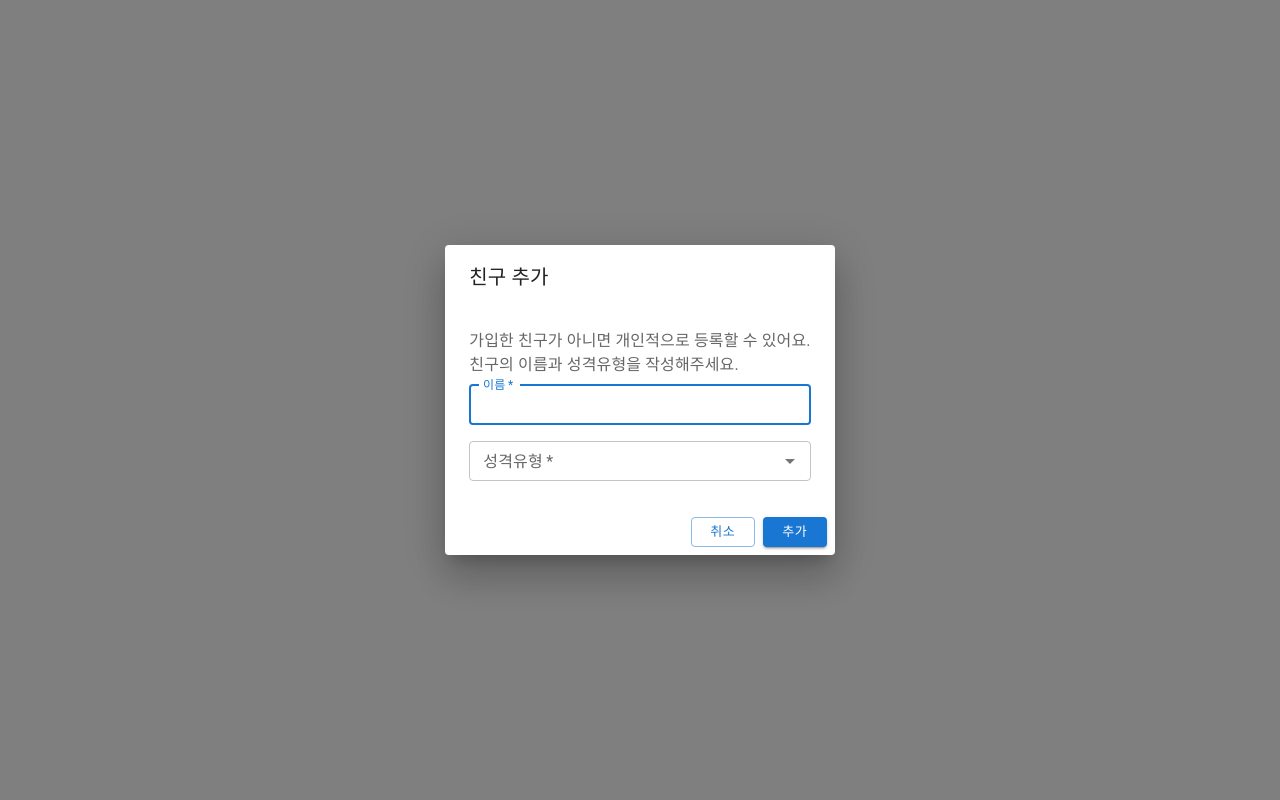
Test: test add friend dialog › should be submitted if { name: 'HONG', personality: 'ENTJ'} which is valid form    is entered in the form
Expected: the dropdown labelled "성격유형 *" is shown, [475, 447, 772, 475]
Expected: the button "추가" is shown, [763, 517, 827, 547]
// FILL FORM
In the field labelled "이름 *": (640, 405) [469, 385, 811, 425], type "HONG"
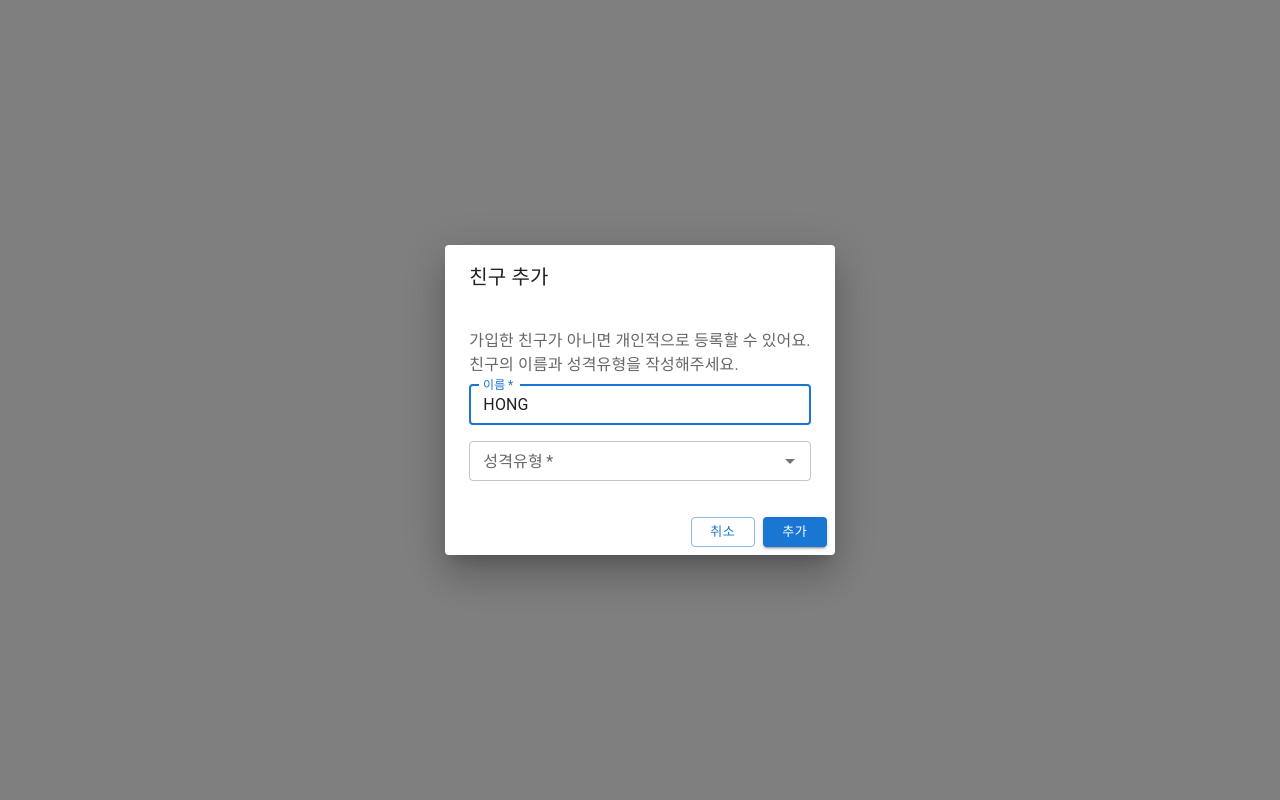
In the dropdown labelled "성격유형 *": (624, 461) [475, 447, 772, 475], type "ENTJ"
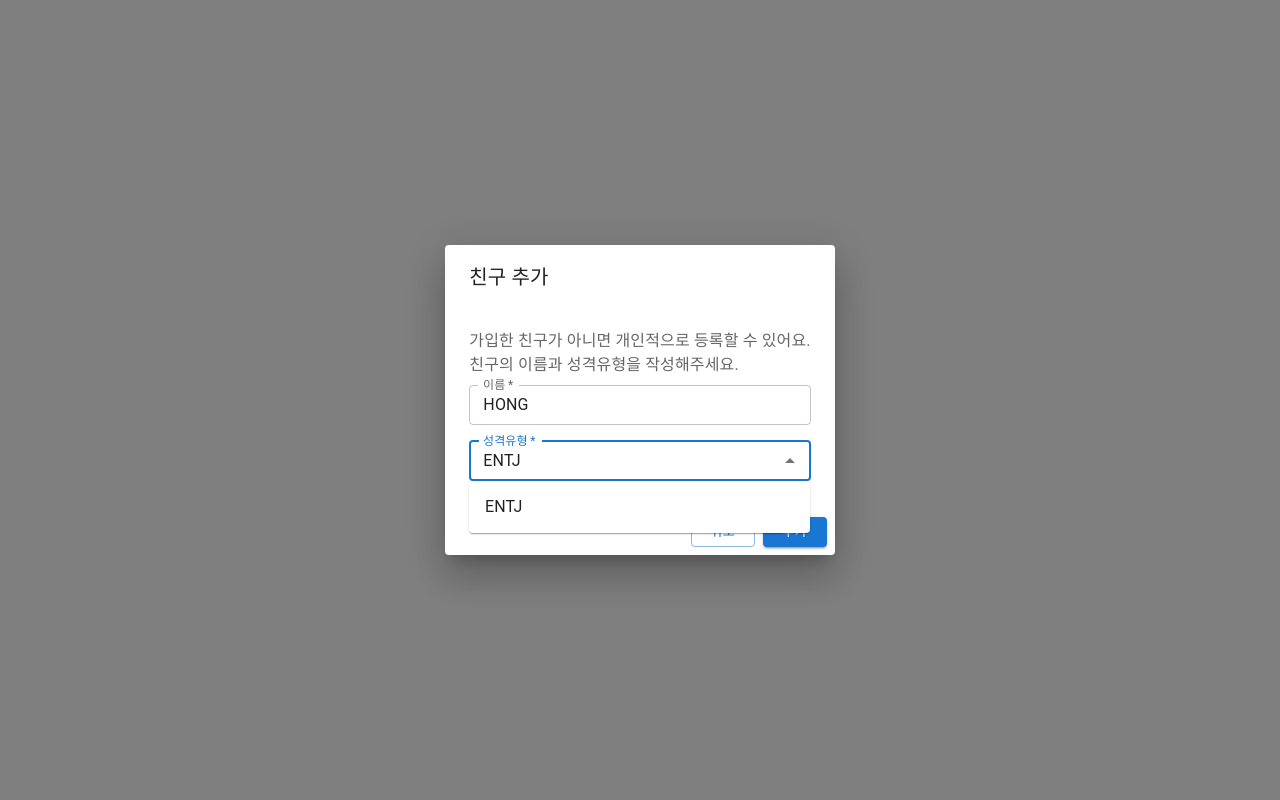
Submit the form from the button "추가", box [763, 517, 827, 547]
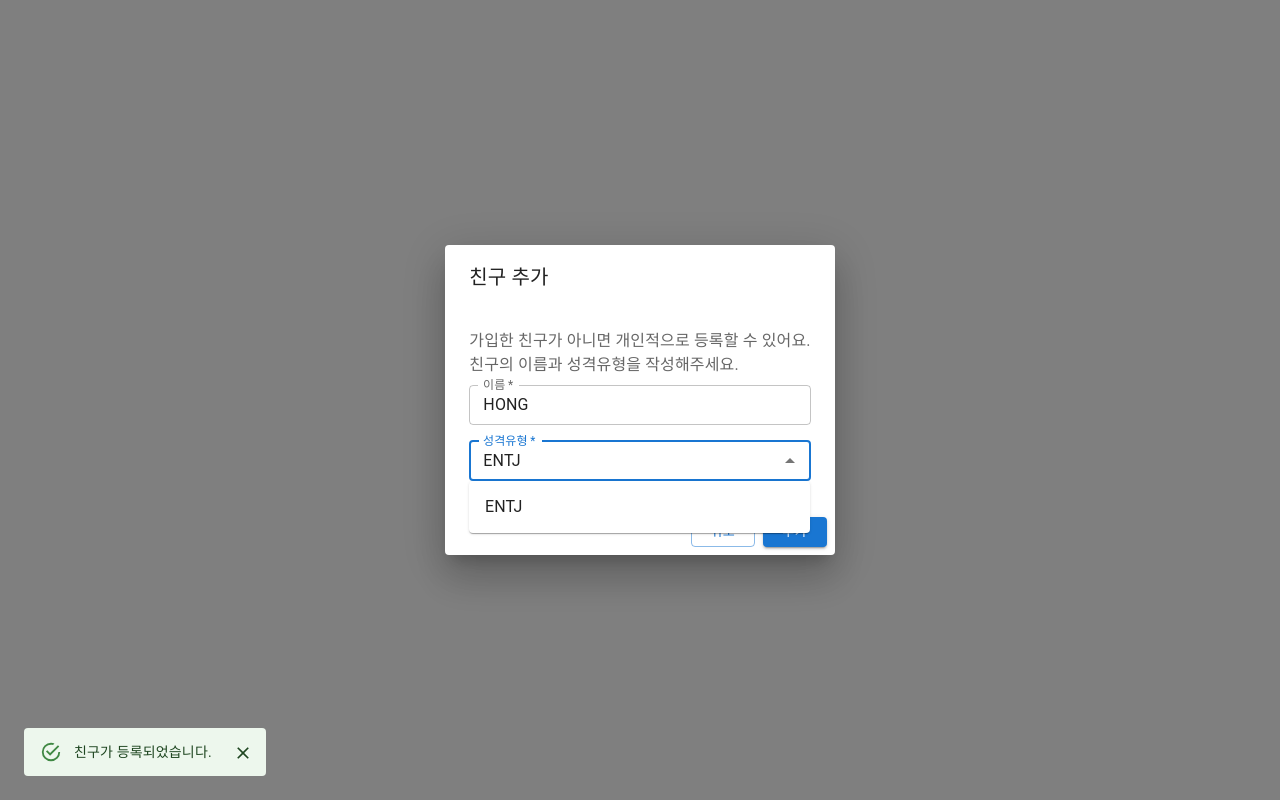
Expected: the text "친구가 등록되었습니다." is shown, [74, 744, 212, 760]
